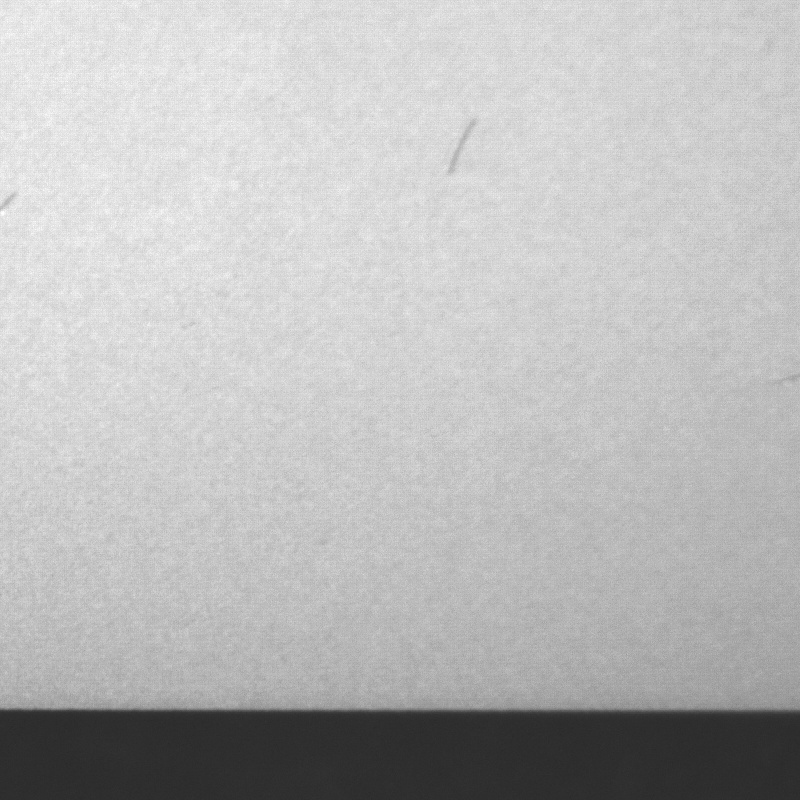defect: (446, 119, 483, 174), (1, 187, 23, 215)
